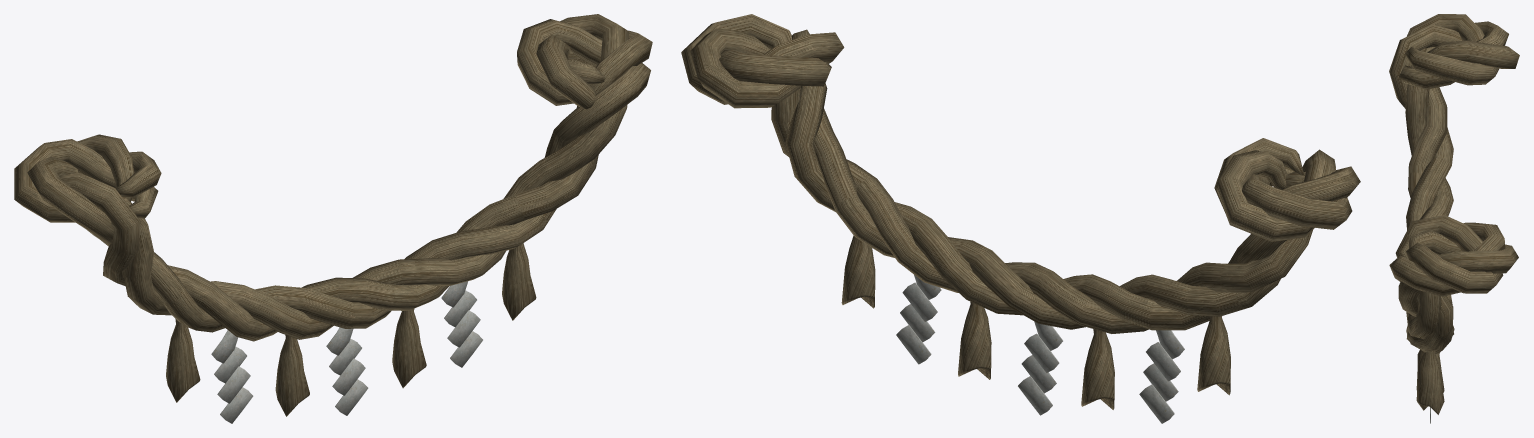
File: Simenawa_Yashiro.fbx
The picture shows the model from 3 angles, left to right: view 1: azimuth 30°, elevation 25°; view 2: azimuth 150°, elevation 25°; view 3: azimuth 270°, elevation 25°; orthographic projection. The views are drawn at different scales.
Visible parts, largest first — view 1: Simenawa_Yashiro; view 2: Simenawa_Yashiro; view 3: Simenawa_Yashiro.
Boxes of the visible parts, <box> form: Simenawa_Yashiro: <box>14,14,652,423</box>; Simenawa_Yashiro: <box>681,14,1360,423</box>; Simenawa_Yashiro: <box>1389,14,1519,423</box>.
Size of the model in its own units: 1.49 by 0.7154 by 0.3197.
